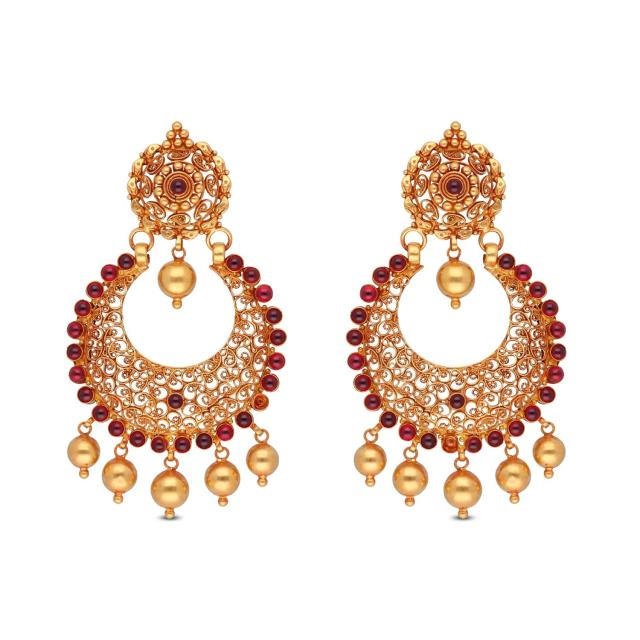missing gem: (442, 436, 458, 453), (253, 394, 269, 410)
